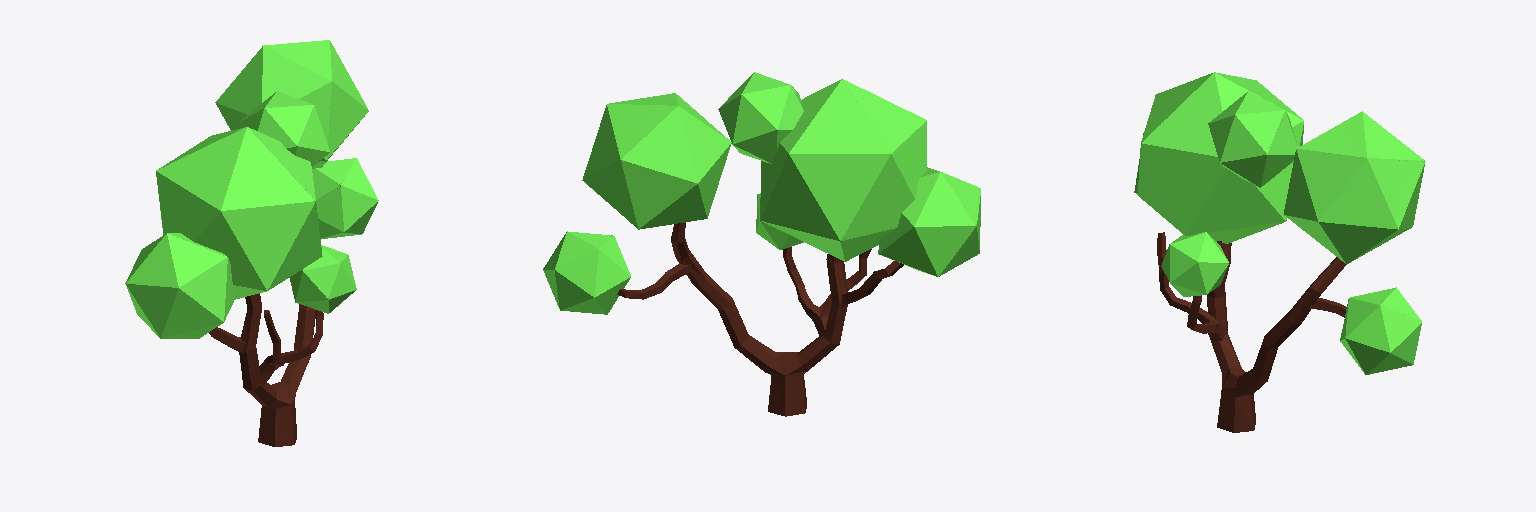
3 views of the same model, side by side, from view 1: azimuth 30°, elevation 25°; view 2: azimuth 150°, elevation 25°; view 3: azimuth 270°, elevation 25° (orthographic).
Parts seen in each view (by area): view 1: tree_Untitled; view 2: tree_Untitled; view 3: tree_Untitled.
Part boxes in pixels (x1,y1,x2,y2): tree_Untitled: (125,40,378,446); tree_Untitled: (543,72,980,416); tree_Untitled: (1134,72,1425,432).
Bounding box in the file's own units: 27.98 × 26.54 × 20.8.
1 materials, 1 textured.